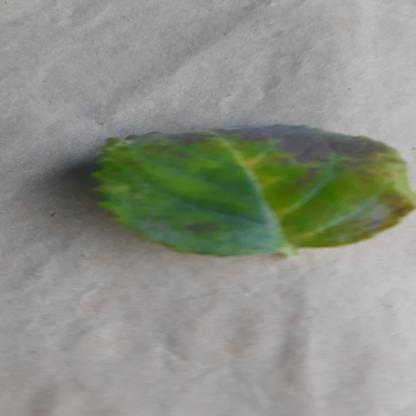downy-mildew: (92, 122, 410, 258)
